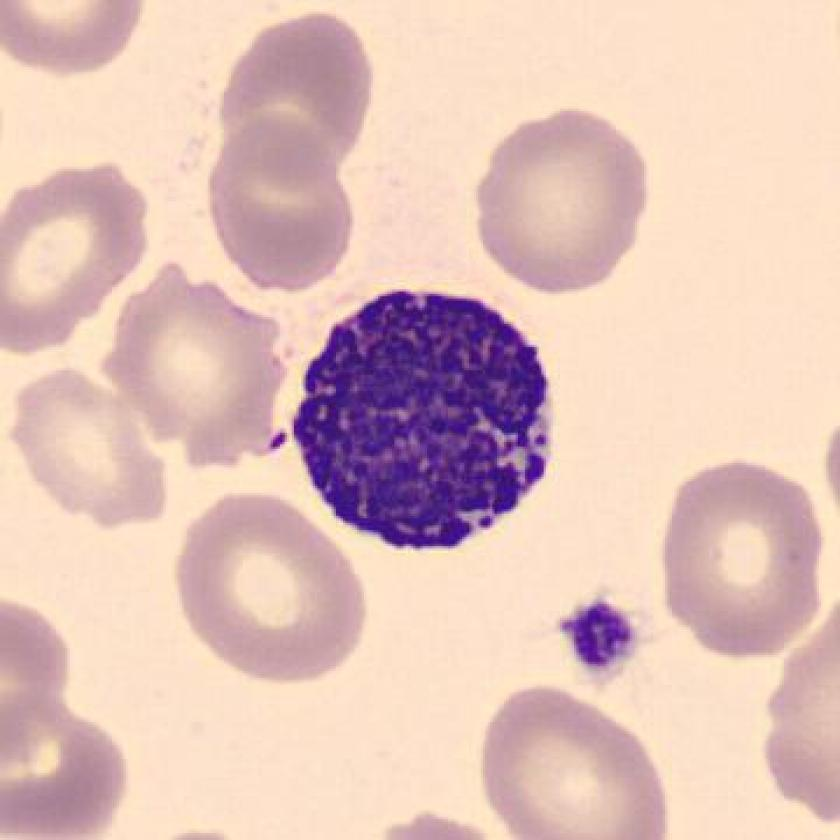basophil: (295, 286, 559, 559)
